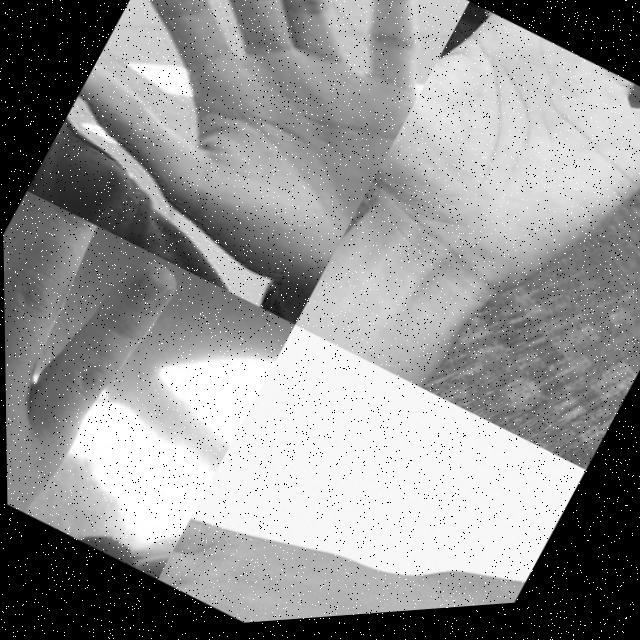no-gloves: (45, 0, 473, 307), (334, 0, 640, 389), (2, 181, 220, 547), (154, 426, 518, 632)
